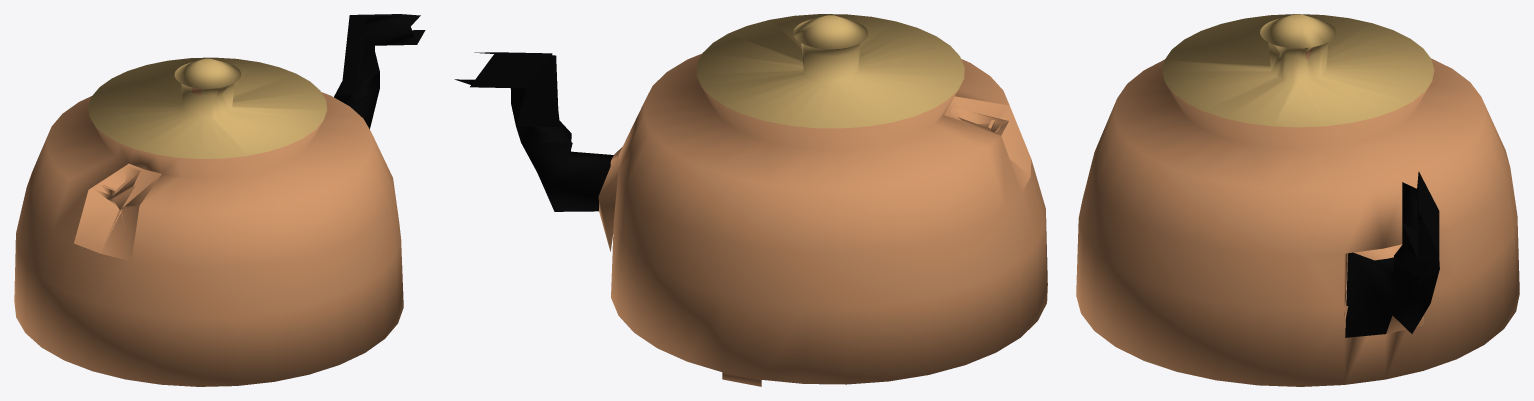
Rendered from tetera.glb.
The picture shows the model from 3 angles, left to right: view 1: azimuth 30°, elevation 25°; view 2: azimuth 150°, elevation 25°; view 3: azimuth 270°, elevation 25°; orthographic projection. The views are drawn at different scales.
Visible parts, largest first — view 1: Cylinder; view 2: Cylinder; view 3: Cylinder.
Part boxes in pixels (x1,y1,x2,y2): Cylinder: [14, 14, 425, 386]; Cylinder: [454, 14, 1047, 386]; Cylinder: [1076, 14, 1519, 386].
Bounding box in the file's own units: 1.34 × 0.8281 × 1.02.
